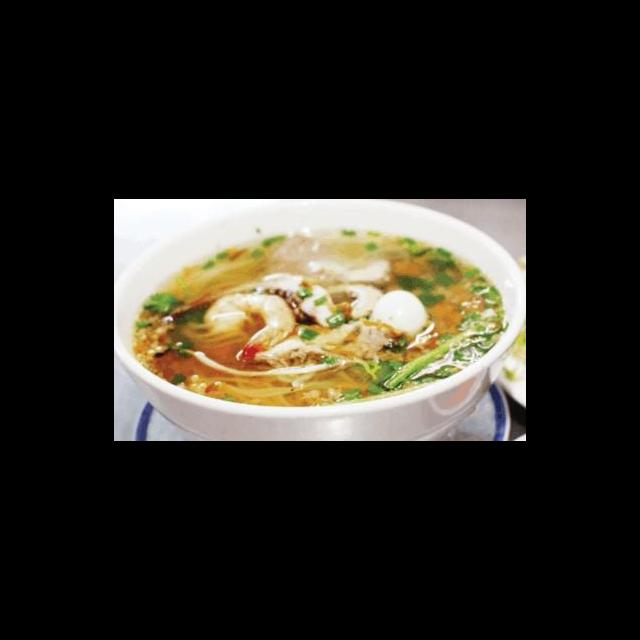tom: (197, 289, 301, 368)
trung: (365, 287, 433, 340)
